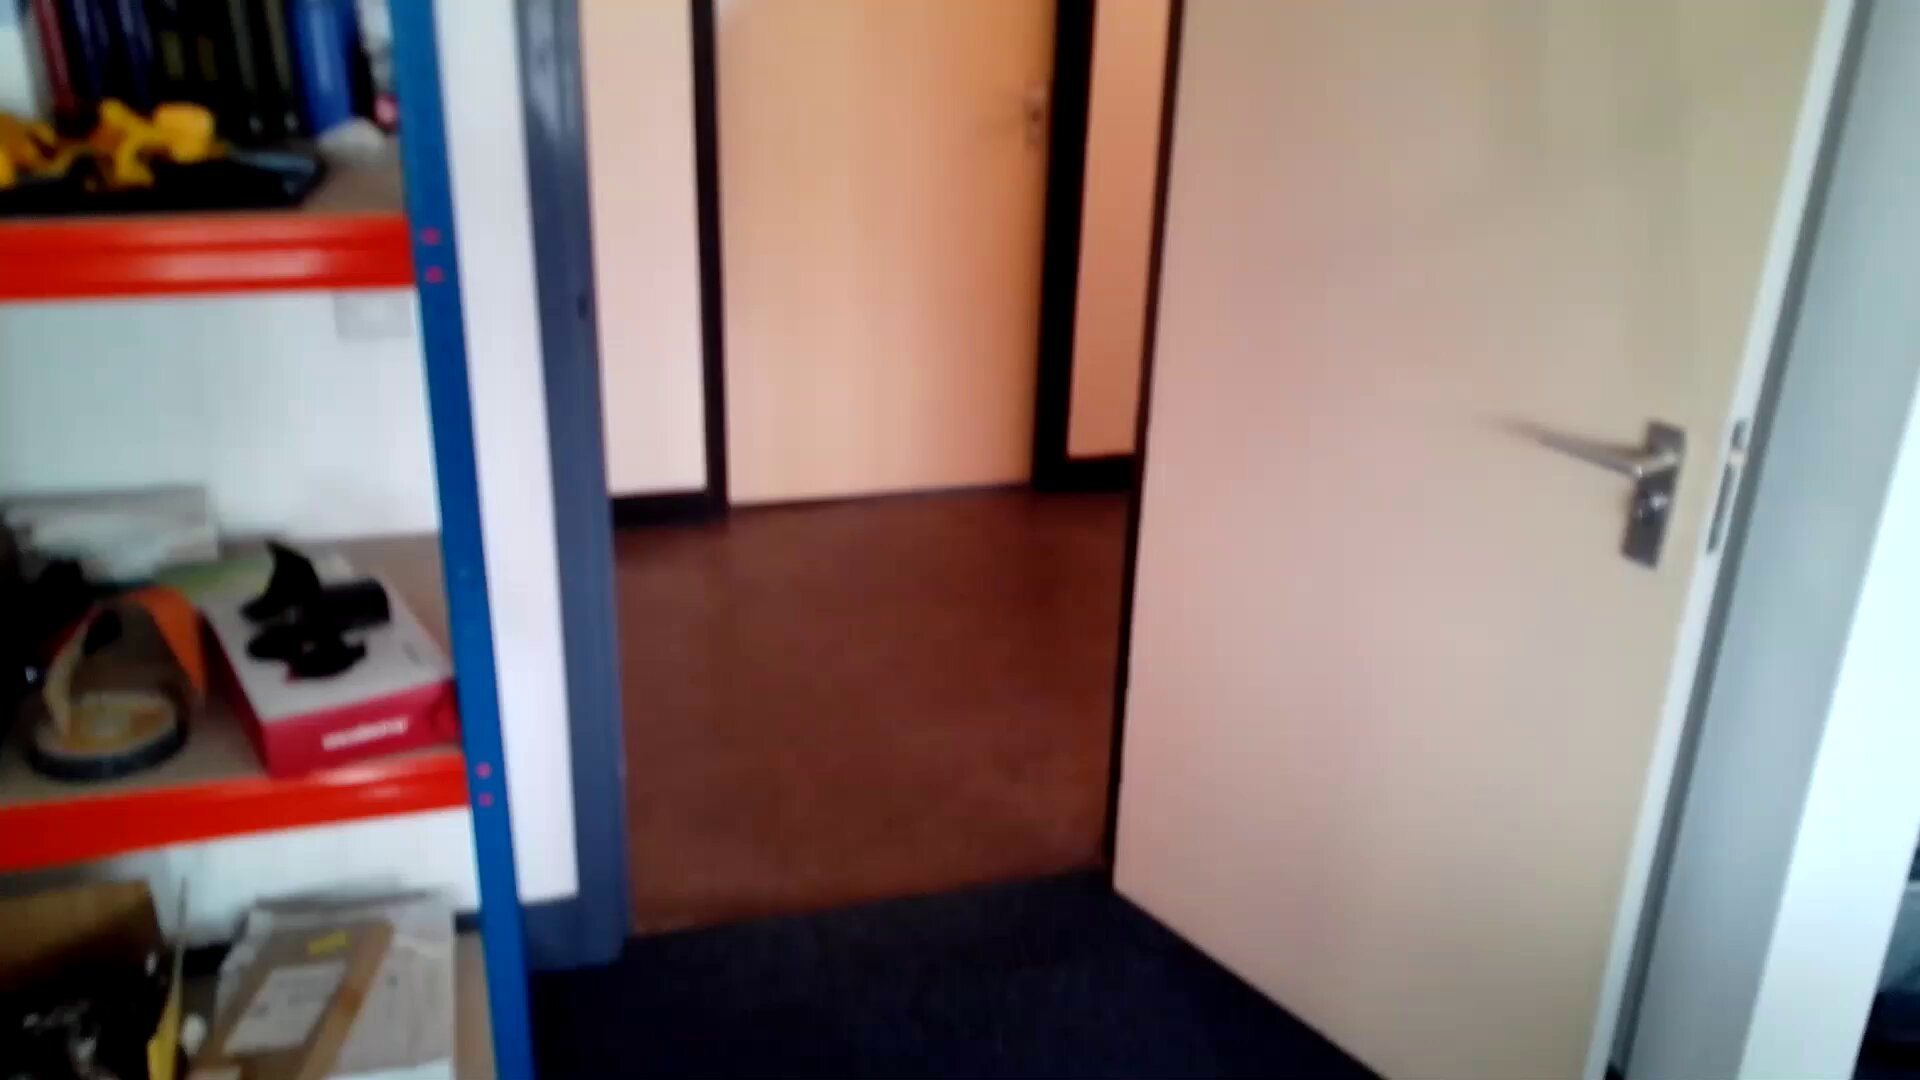Door: (1154, 1, 1855, 1080), (709, 3, 1046, 502)
